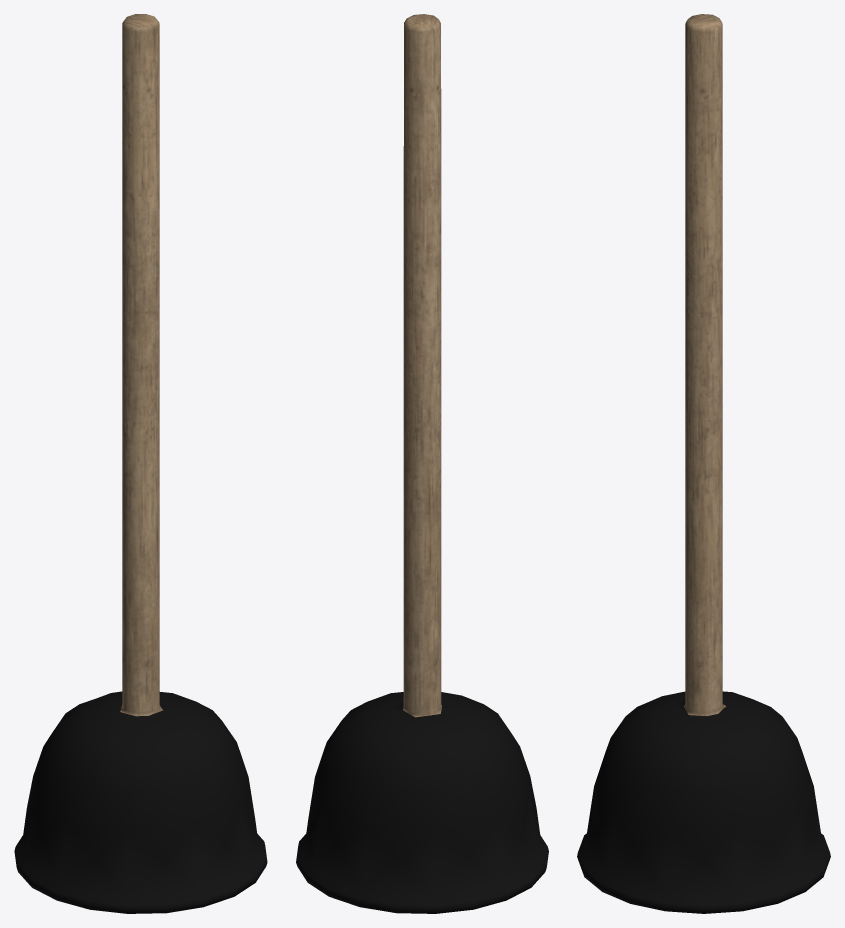
Rendered from plunger.obj.
The picture shows the model from 3 angles, left to right: view 1: azimuth 30°, elevation 25°; view 2: azimuth 150°, elevation 25°; view 3: azimuth 270°, elevation 25°; orthographic projection.
Visible parts, largest first — view 1: plunger_01; view 2: plunger_01; view 3: plunger_01.
Part boxes in pixels (<box>): plunger_01: <box>14,14,267,913</box>; plunger_01: <box>296,14,548,913</box>; plunger_01: <box>577,14,830,913</box>.
Size of the model in its own units: 0.146 by 0.5342 by 0.1458.
1 material, 1 textured.
